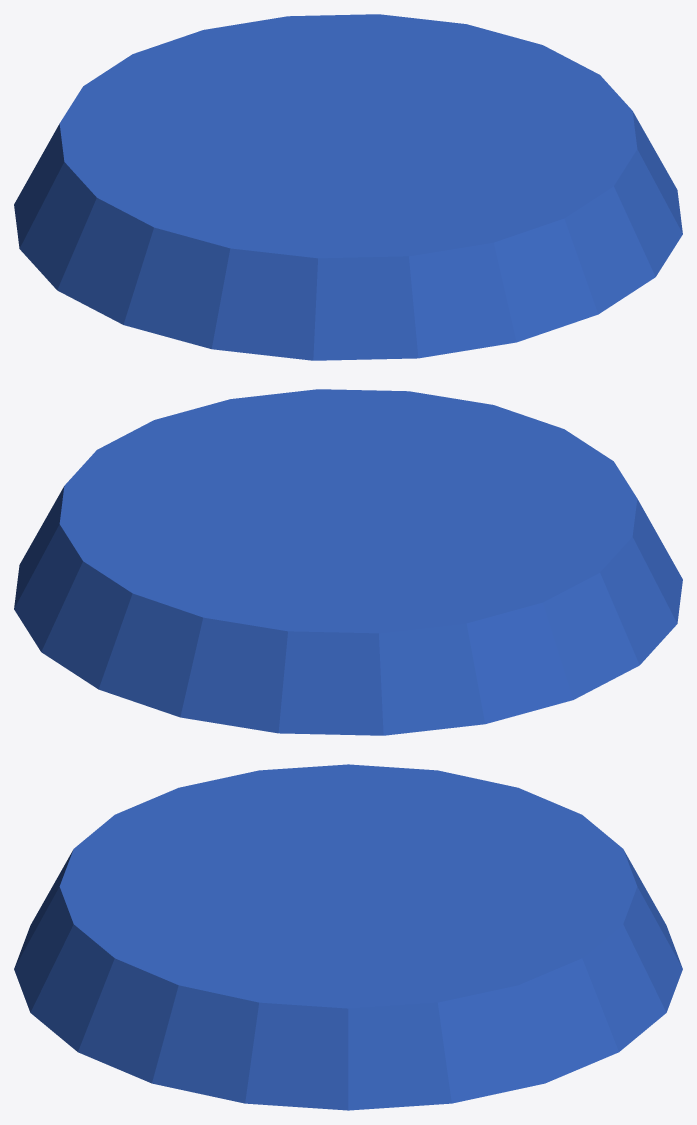
The model's file is dog_bowl.fbx.
3 renders of one model, top to bottom at view 1: azimuth 30°, elevation 25°; view 2: azimuth 150°, elevation 25°; view 3: azimuth 270°, elevation 25°, orthographic.
Parts seen in each view (by area): view 1: dog_bowl; view 2: dog_bowl; view 3: dog_bowl.
Boxes of the visible parts, <box> form: dog_bowl: <box>14,14,682,360</box>; dog_bowl: <box>14,389,682,735</box>; dog_bowl: <box>14,764,682,1110</box>.
Bounding box in the file's own units: 0.44 × 0.06 × 0.44.
